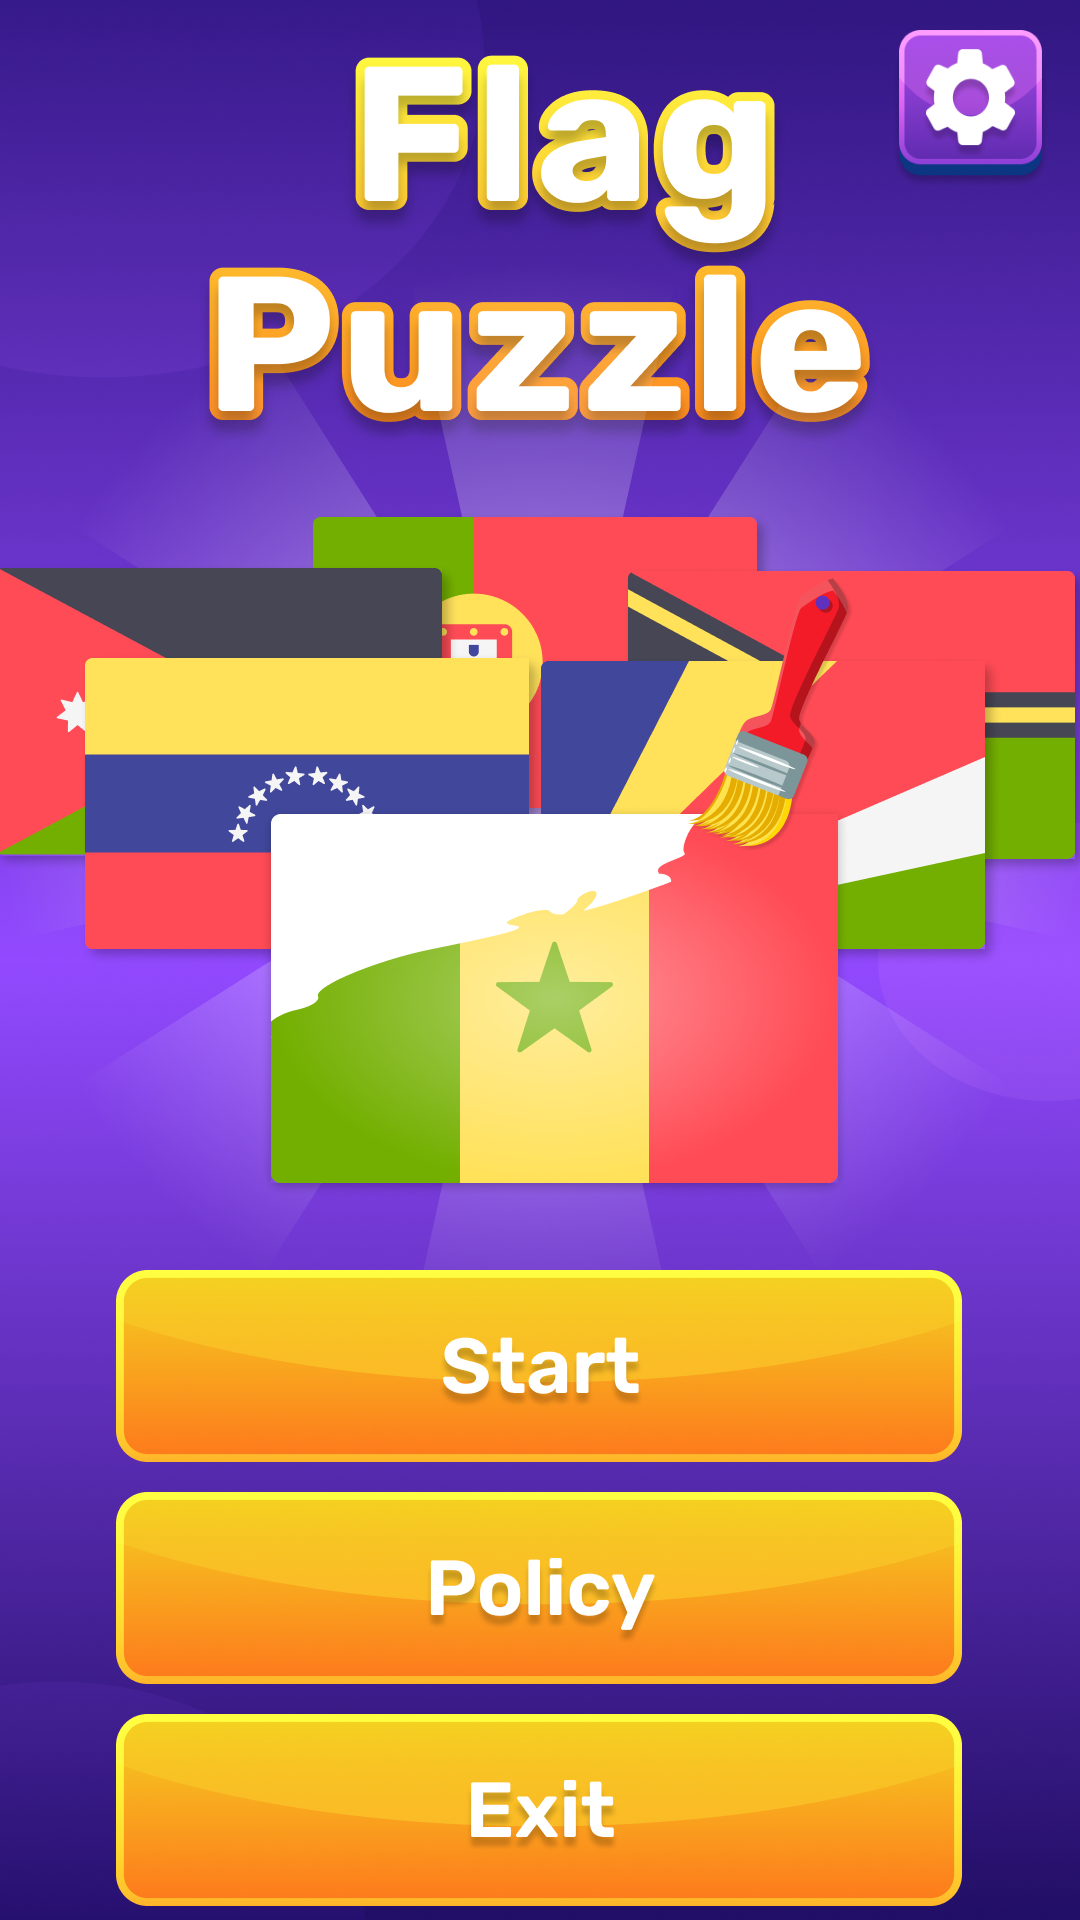

Locate icon controls on the screen. Image size 1080 x 1920, boxes as [left=x1, top=y1, right=x2, bottom=y2].
settings sel: [left=896, top=30, right=1045, bottom=180]
